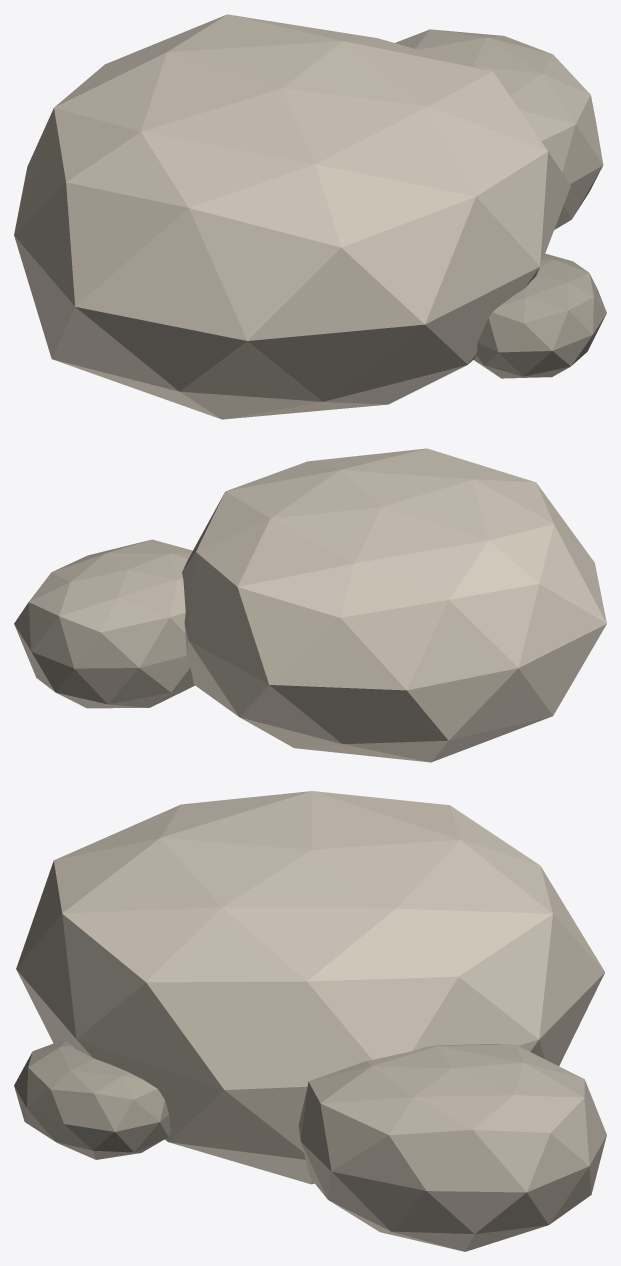
Rendered from prop_rock_cluster.glb.
The picture shows the model from 3 angles, top to bottom: view 1: azimuth 30°, elevation 25°; view 2: azimuth 150°, elevation 25°; view 3: azimuth 270°, elevation 25°; orthographic projection. The views are drawn at different scales.
Visible parts, largest first — view 1: rkc_a, rkc_b, rkc_c; view 2: rkc_a, rkc_b; view 3: rkc_a, rkc_b, rkc_c.
Part boxes in pixels (x1,y1,x2,y2): rkc_a: [14, 14, 570, 419]; rkc_b: [395, 29, 603, 229]; rkc_c: [473, 253, 606, 378]; rkc_a: [182, 448, 606, 762]; rkc_b: [14, 539, 194, 708]; rkc_a: [16, 791, 604, 1184]; rkc_b: [298, 1044, 606, 1251]; rkc_c: [14, 1040, 170, 1159].
Size of the model in its own units: 0.8124 by 0.3729 by 0.6762.
